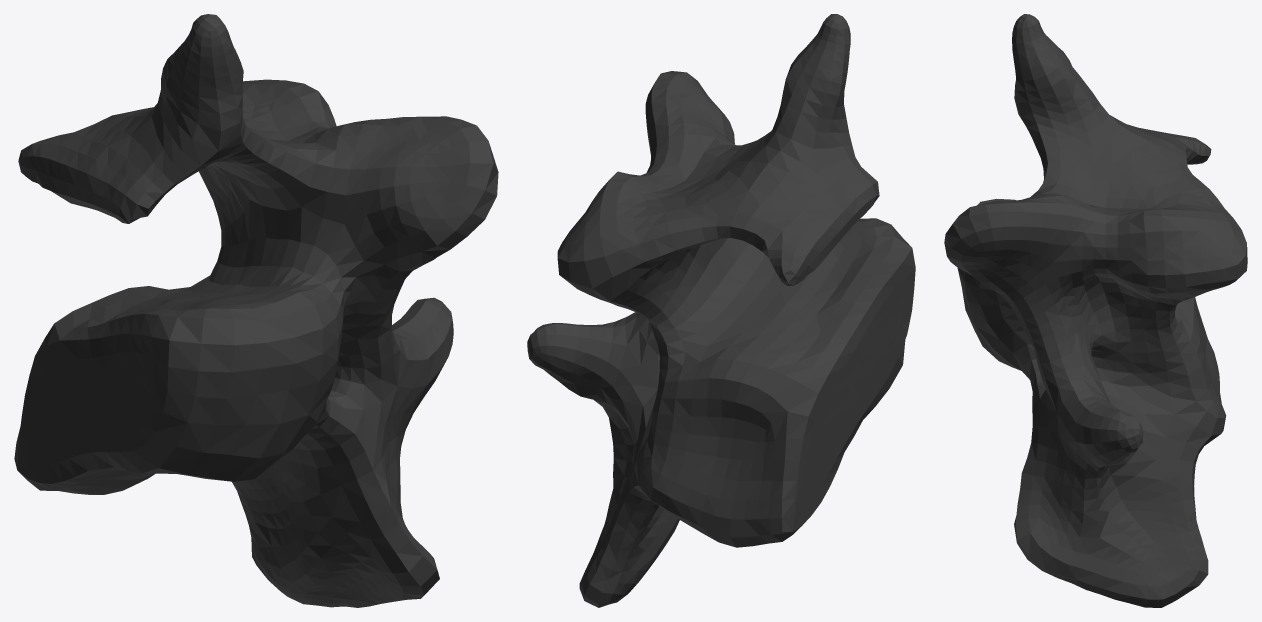
The picture shows the model from 3 angles, left to right: view 1: azimuth 30°, elevation 25°; view 2: azimuth 150°, elevation 25°; view 3: azimuth 270°, elevation 25°; orthographic projection. The views are drawn at different scales.
Parts seen in each view (by area): view 1: C6; view 2: C6; view 3: C6.
Boxes of the visible parts, box(x1,y1,x2,y2) form: C6: box(14, 14, 498, 607); C6: box(527, 14, 915, 607); C6: box(944, 14, 1247, 607).
Size of the model in its own units: 0.00831 by 0.0147 by 0.00781.
1 material, 1 textured.
